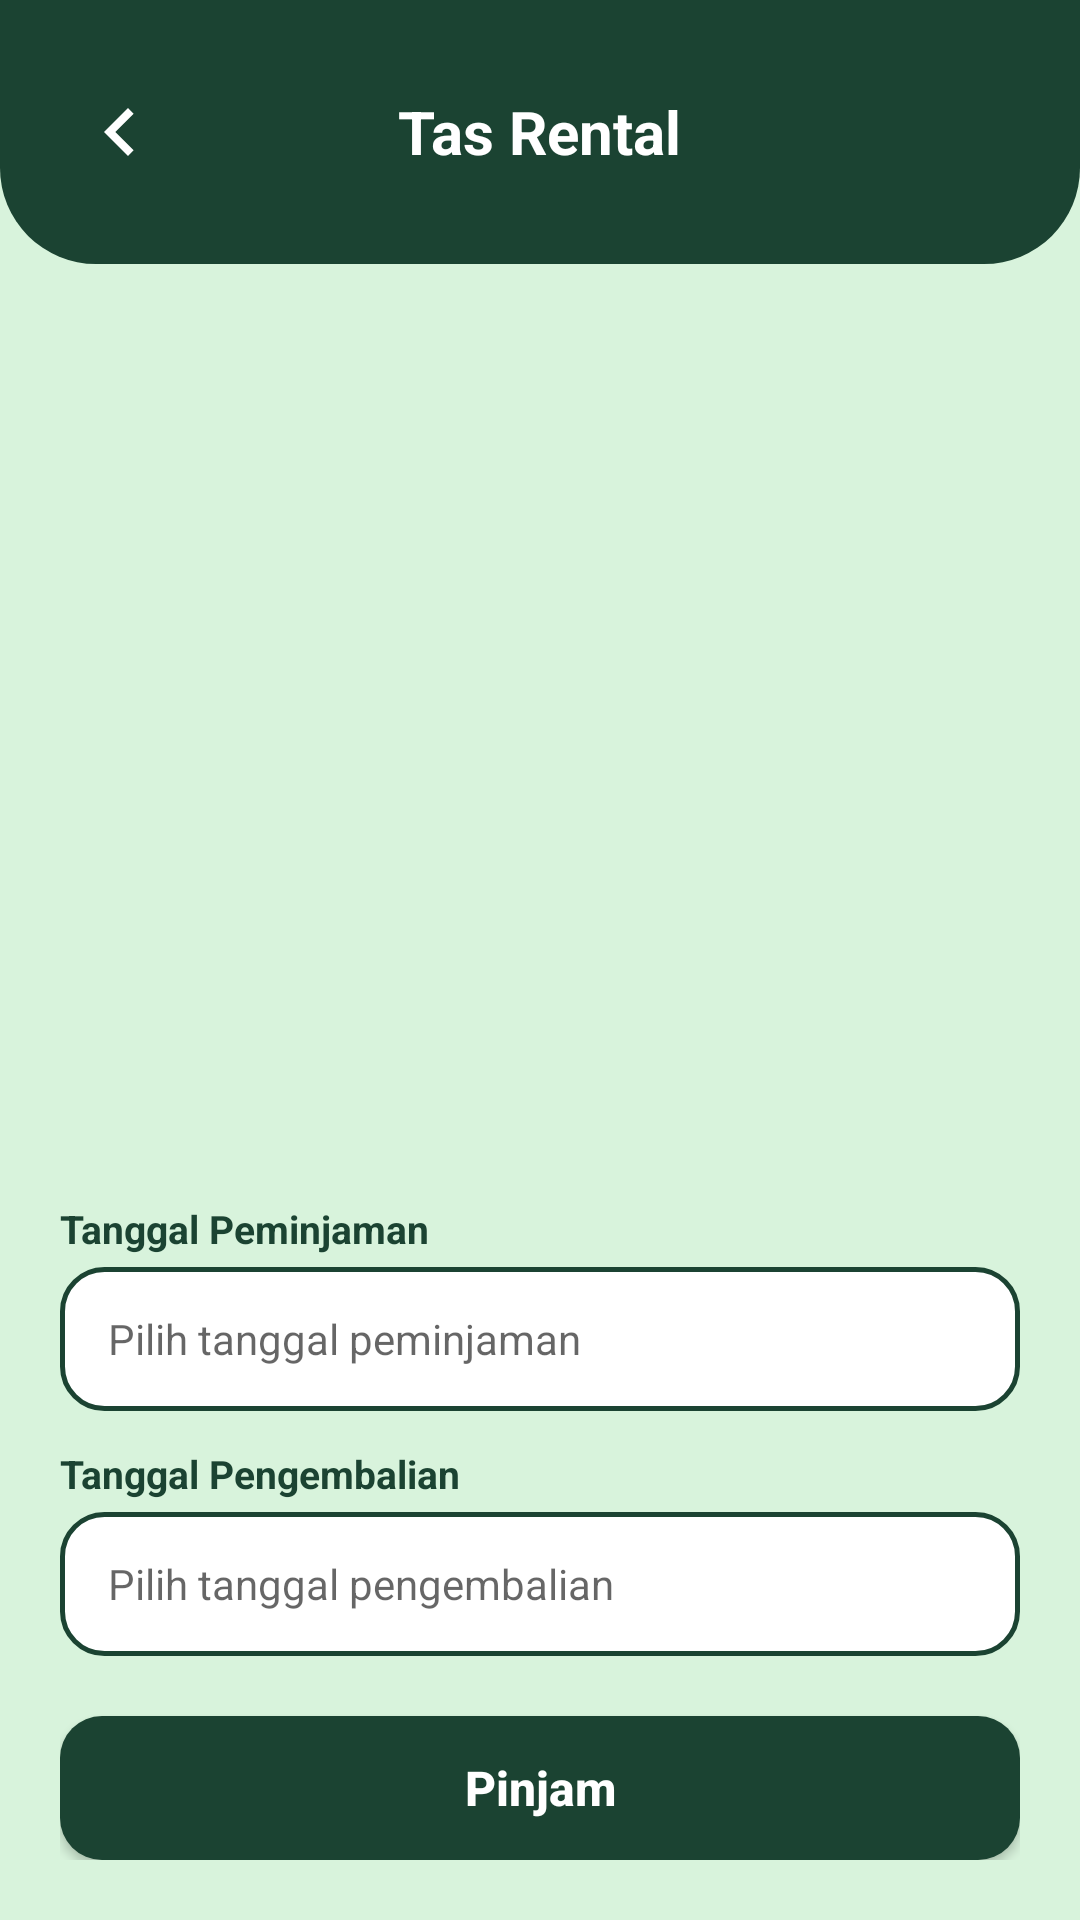

Screen size 1080w x 1920h. Icon name, then its center in pixels as point (x, y):
Kembali: point (119, 132)
